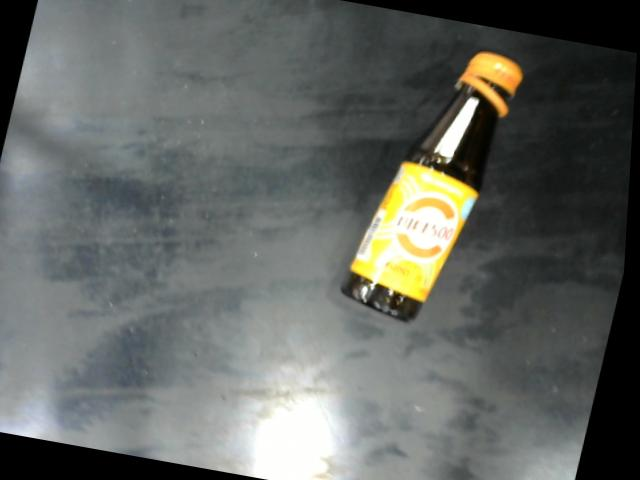glass: (336, 35, 529, 334)
